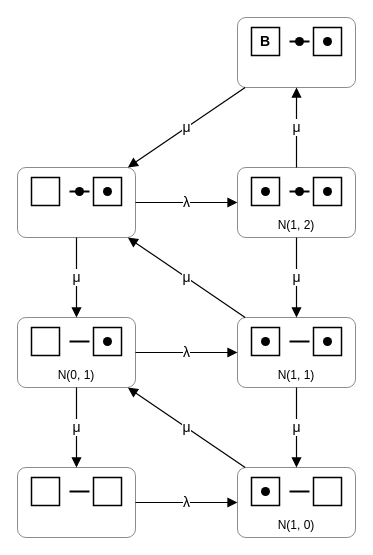
The diagram is 373 pixels wide and 555 high, and some of its shapes have lost their labels. The shapes that lost their labels are listed below. From the top down, each one's box as (x1, y1, x2, y2) in pixels, then its label:
(236, 16, 356, 88): B(1, 2)
(16, 166, 136, 238): N(0, 2)
(16, 466, 136, 538): N(0, 0)
